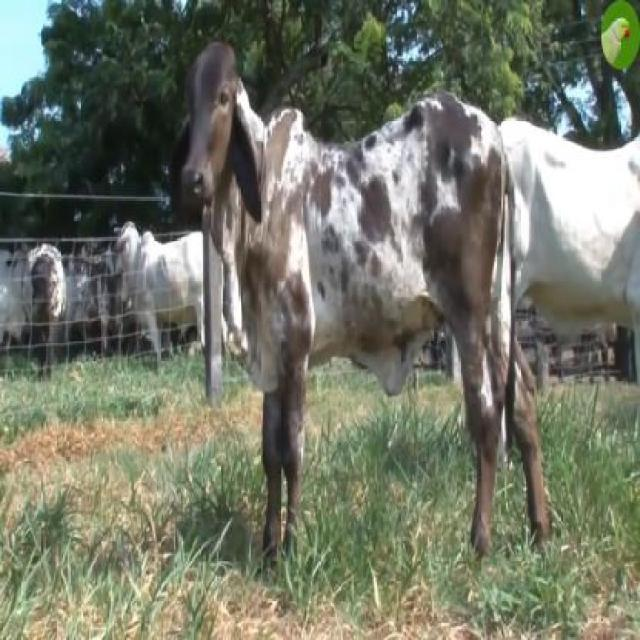Cow: (182, 37, 550, 557)
